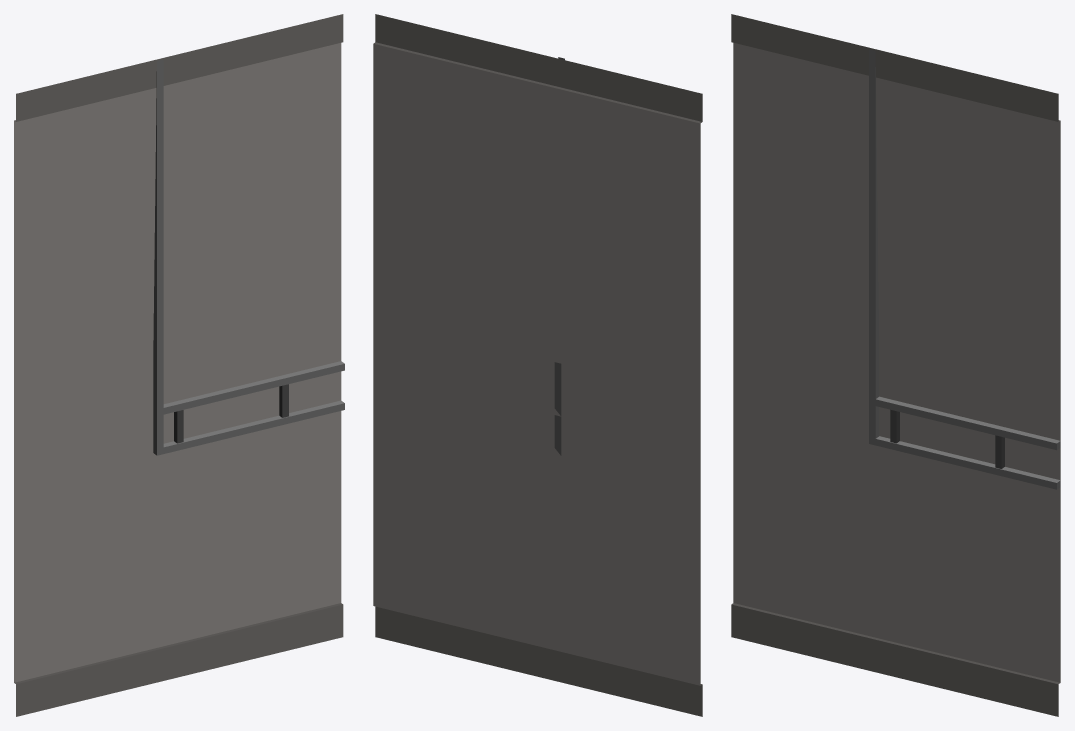
File: AI_Env_Wall_Factory_Electronics_Start.fbx
3 views of the same model, side by side, from view 1: azimuth 30°, elevation 25°; view 2: azimuth 150°, elevation 25°; view 3: azimuth 330°, elevation 25° (orthographic).
Visible parts, largest first — view 1: AI_Env_Wall_Factory_Electronics_Start; view 2: AI_Env_Wall_Factory_Electronics_Start; view 3: AI_Env_Wall_Factory_Electronics_Start.
Boxes of the visible parts, left/top/right/bottom form: AI_Env_Wall_Factory_Electronics_Start: left=14, top=14, right=344, bottom=716; AI_Env_Wall_Factory_Electronics_Start: left=373, top=14, right=702, bottom=716; AI_Env_Wall_Factory_Electronics_Start: left=731, top=14, right=1060, bottom=716.
Bounding box in the file's own units: 5 × 9.1 × 0.0984.
